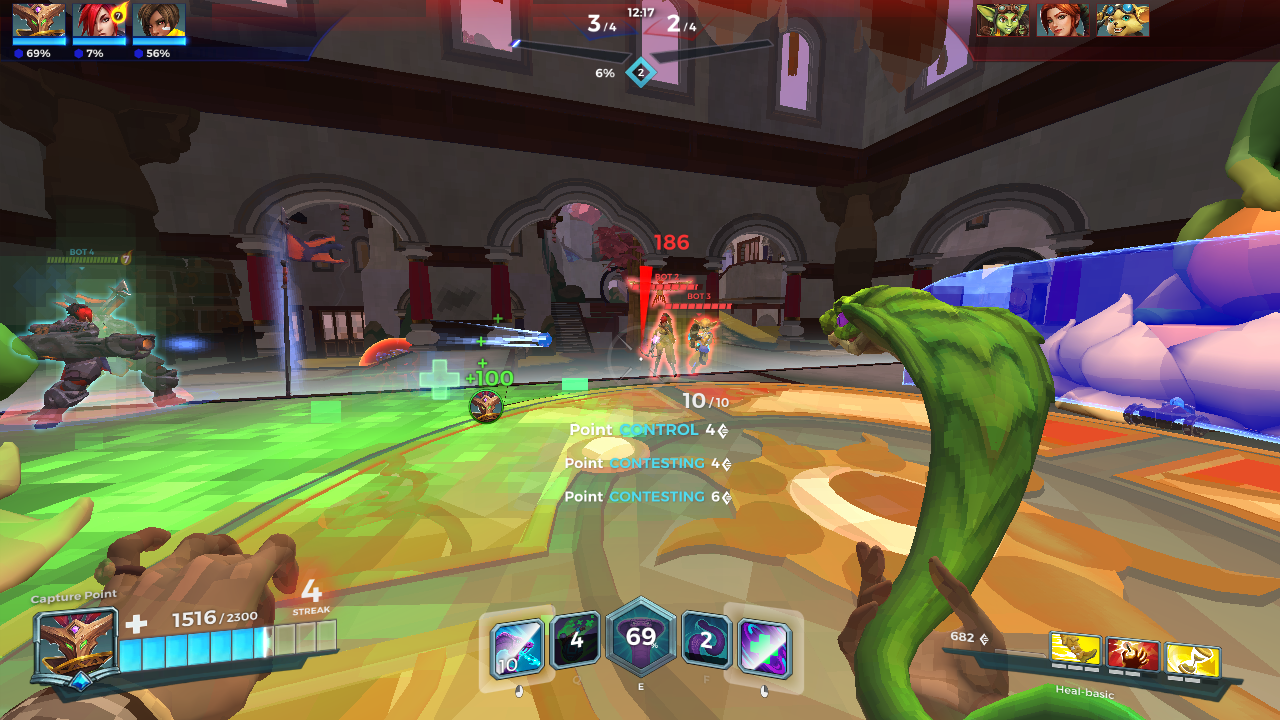model: (651, 309, 678, 384), (688, 314, 713, 368)
